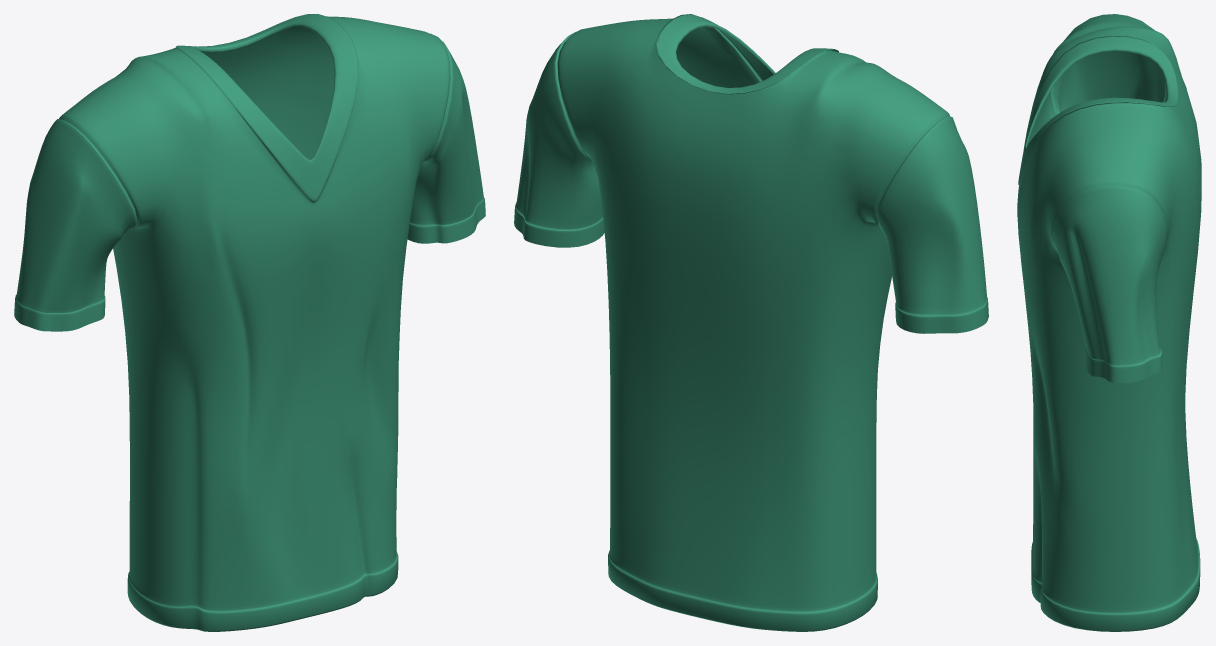
File: SurgeryTshirt.fbx
3 views of the same model, side by side, from view 1: azimuth 30°, elevation 25°; view 2: azimuth 150°, elevation 25°; view 3: azimuth 270°, elevation 25° (orthographic). The views are drawn at different scales.
Visible parts, largest first — view 1: cadnav.com; view 2: cadnav.com; view 3: cadnav.com.
Boxes of the visible parts, <box> form: cadnav.com: <box>14,14,485,631</box>; cadnav.com: <box>514,14,988,631</box>; cadnav.com: <box>1017,14,1201,631</box>.
Bounding box in the file's own units: 556 × 625 × 206.
